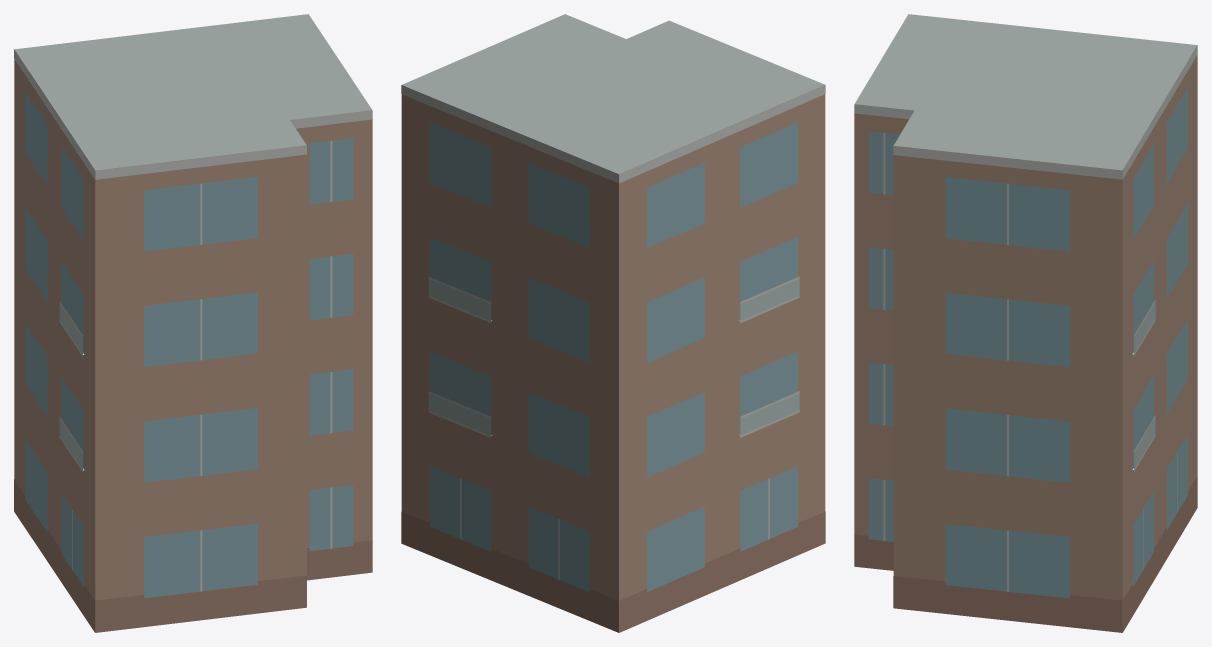
File: residential-d84a1829-7ce3-4d8c-ac75-bc01f29dc7fd.glb
The picture shows the model from 3 angles, left to right: view 1: azimuth 30°, elevation 25°; view 2: azimuth 150°, elevation 25°; view 3: azimuth 270°, elevation 25°; orthographic projection.
Visible parts, largest first — view 1: residential-d84a1829-7ce3-4d8c-ac75-bc01f29dc7fd.tmp; view 2: residential-d84a1829-7ce3-4d8c-ac75-bc01f29dc7fd.tmp; view 3: residential-d84a1829-7ce3-4d8c-ac75-bc01f29dc7fd.tmp.
Part boxes in pixels (x1,y1,x2,y2): residential-d84a1829-7ce3-4d8c-ac75-bc01f29dc7fd.tmp: (14,14,372,632); residential-d84a1829-7ce3-4d8c-ac75-bc01f29dc7fd.tmp: (401,14,825,632); residential-d84a1829-7ce3-4d8c-ac75-bc01f29dc7fd.tmp: (854,14,1197,632).
Size of the model in its own units: 8.86 by 12.2 by 8.22.
